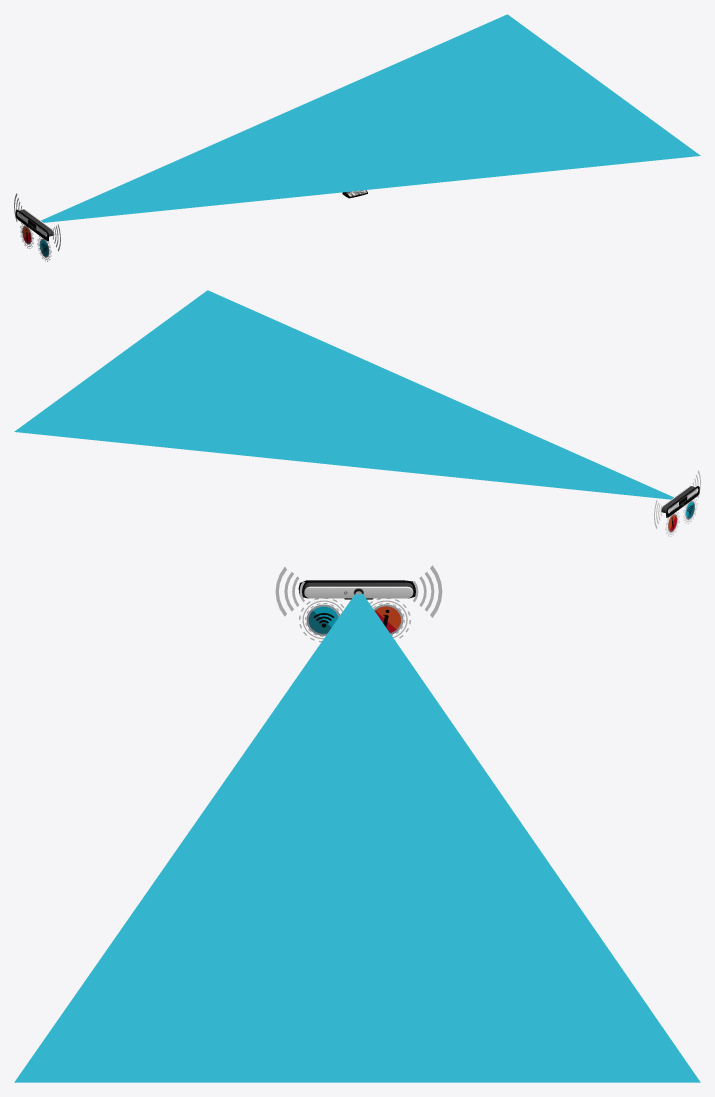
File: MediumProps_LogitechRallyBar.glb
3 views of the same model, one above another, from view 1: azimuth 30°, elevation 25°; view 2: azimuth 150°, elevation 25°; view 3: azimuth 270°, elevation 25° (orthographic). The views are drawn at different scales.
Visible parts, largest first — view 1: Range_LogitechRallyBar; view 2: Range_LogitechRallyBar; view 3: Range_LogitechRallyBar, MediumProps_LogitechRallyBar, CamPop_LogitechRallyBar.001.
Part boxes in pixels (bbox=[...]): Range_LogitechRallyBar: bbox=[41, 14, 700, 222]; Range_LogitechRallyBar: bbox=[14, 290, 673, 499]; Range_LogitechRallyBar: bbox=[14, 594, 700, 1082]; MediumProps_LogitechRallyBar: bbox=[304, 582, 413, 599]; CamPop_LogitechRallyBar.001: bbox=[275, 565, 442, 617].
Bounding box in the file's own units: 7.64 × 0.5741 × 4.48.
14 materials, 3 textured.
